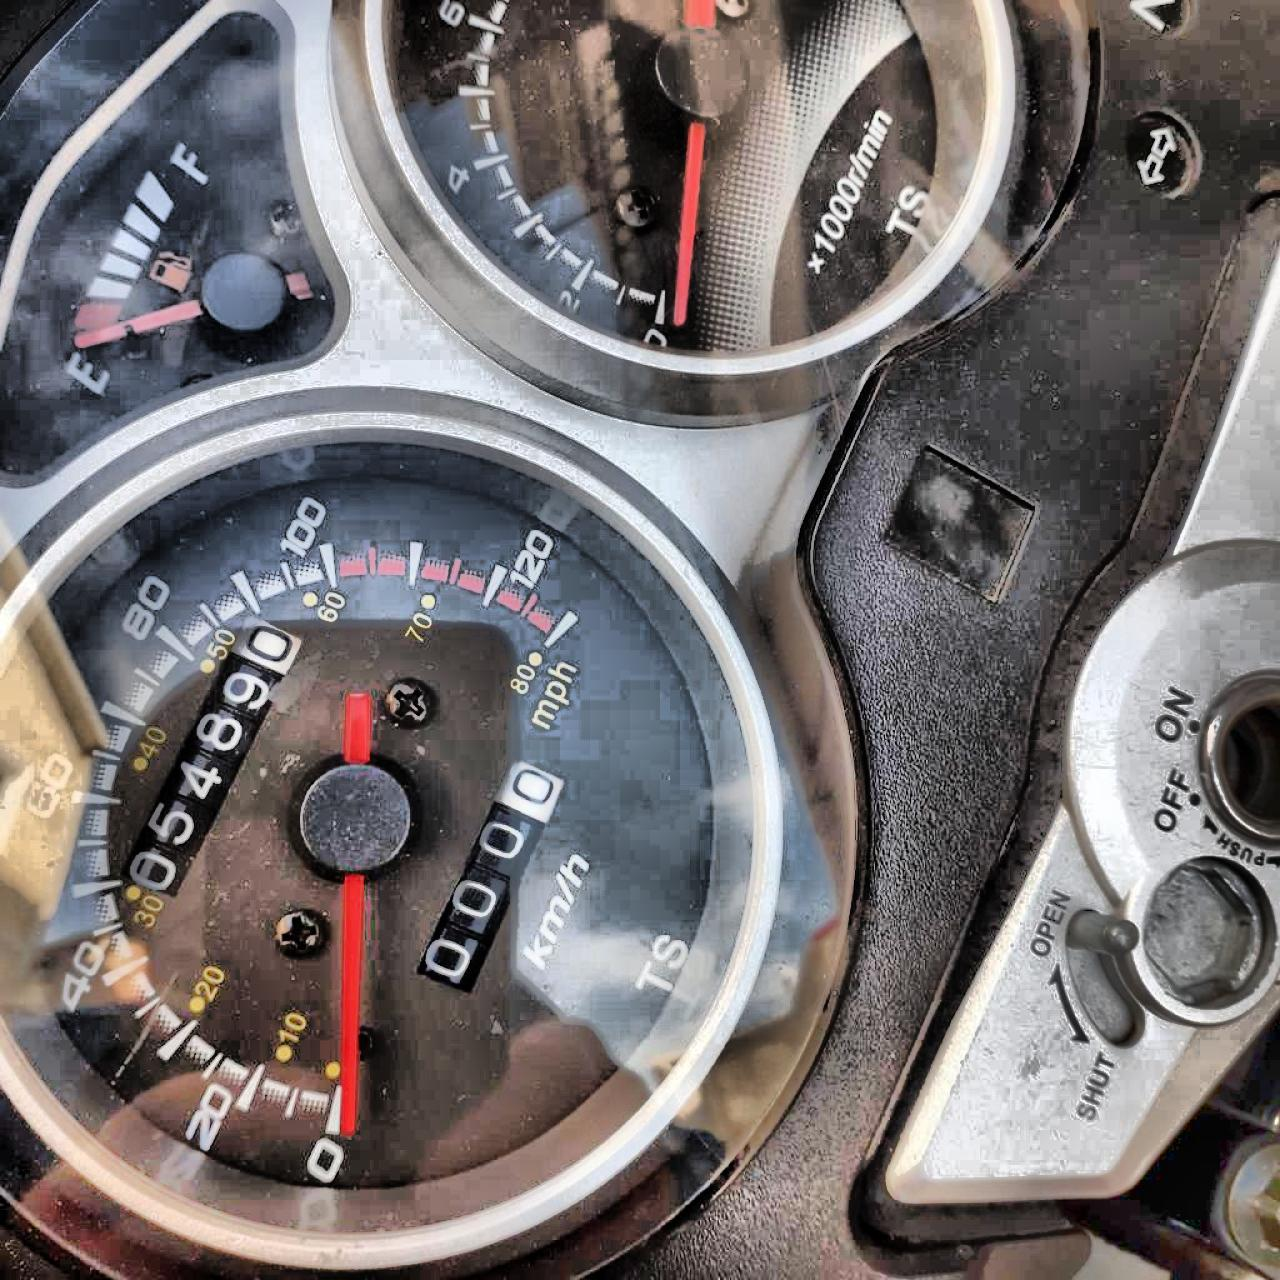0: (125, 849, 176, 888), (245, 624, 291, 661), (143, 726, 166, 743), (215, 626, 234, 645)
4: (178, 760, 220, 799), (137, 741, 157, 757)
5: (145, 799, 195, 844), (204, 641, 227, 659)
8: (196, 713, 243, 750)
9: (222, 672, 268, 709)
odometer: (117, 612, 304, 903)
